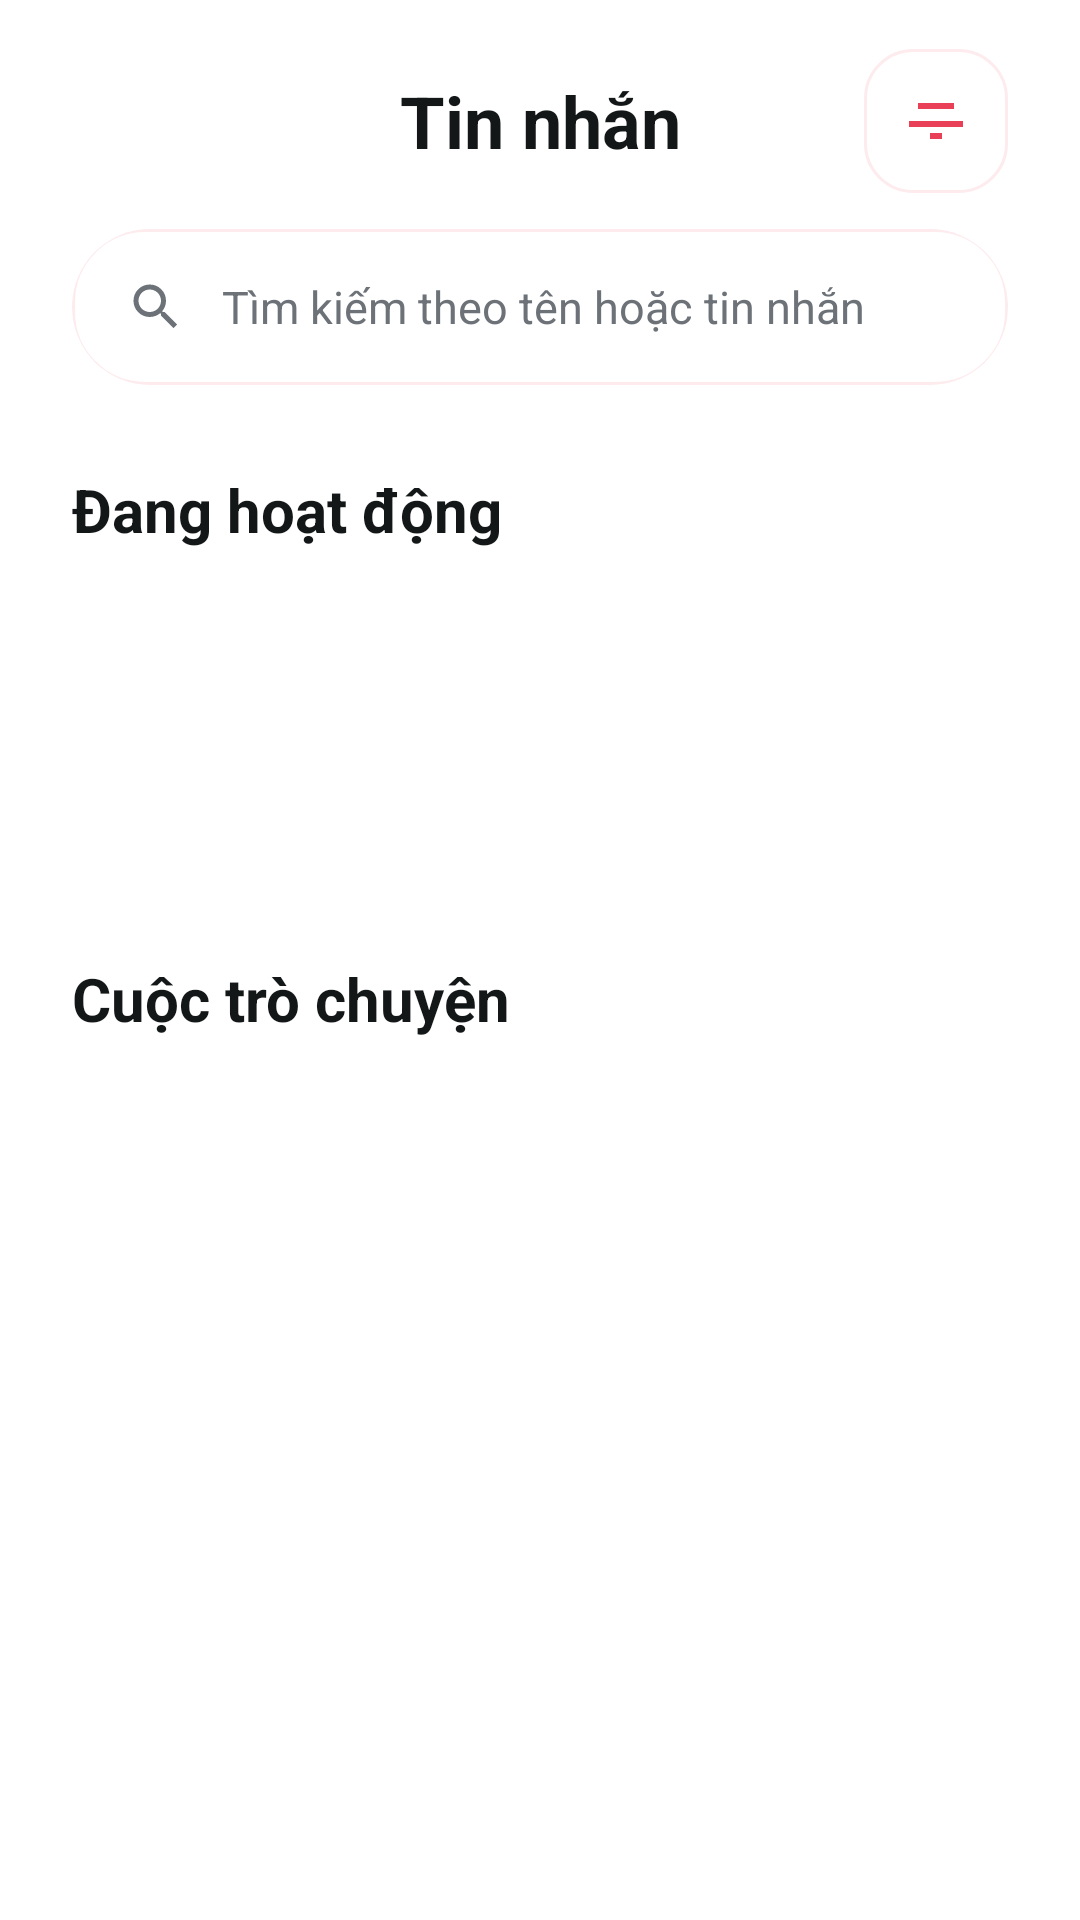

Icon click points for this 1080px×1920px phone screenshot, format (x,y):
Bộ lọc danh sách tin nhắn: (936,121)
Tìm kiếm cuộc trò chuyện: (155,306)
